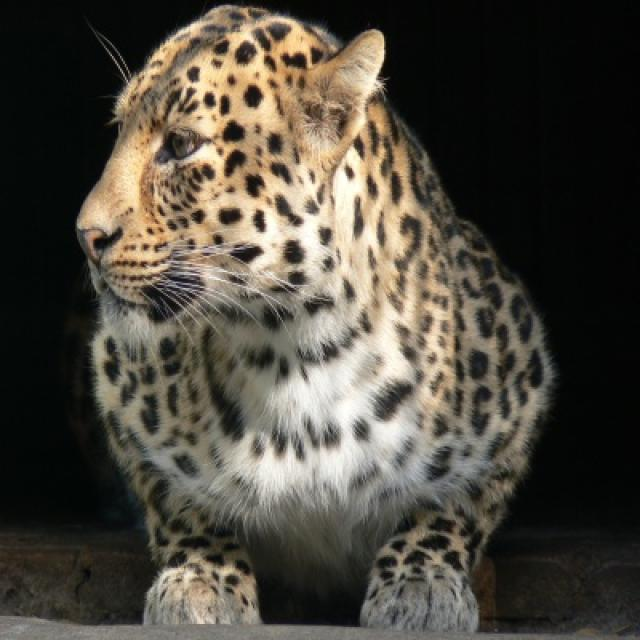Jaguar: (59, 5, 560, 634)
